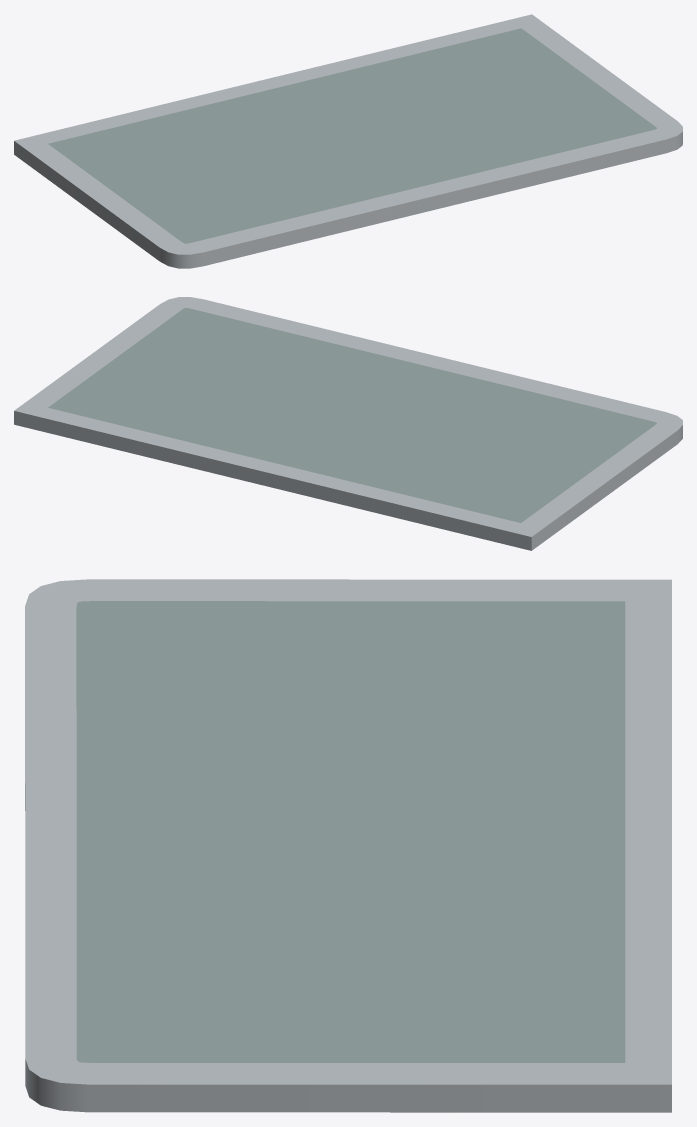
The model's file is shop_parking_s02.FBX.
The picture shows the model from 3 angles, top to bottom: view 1: azimuth 30°, elevation 25°; view 2: azimuth 150°, elevation 25°; view 3: azimuth 270°, elevation 25°; orthographic projection. The views are drawn at different scales.
Visible parts, largest first — view 1: shop_parking_s02; view 2: shop_parking_s02; view 3: shop_parking_s02.
Part boxes in pixels (<box>): shop_parking_s02: <box>14,14,682,268</box>; shop_parking_s02: <box>14,297,682,550</box>; shop_parking_s02: <box>25,579,671,1112</box>.
Bounding box in the file's own units: 948 × 513 × 24.31.
1 material, 1 textured.
